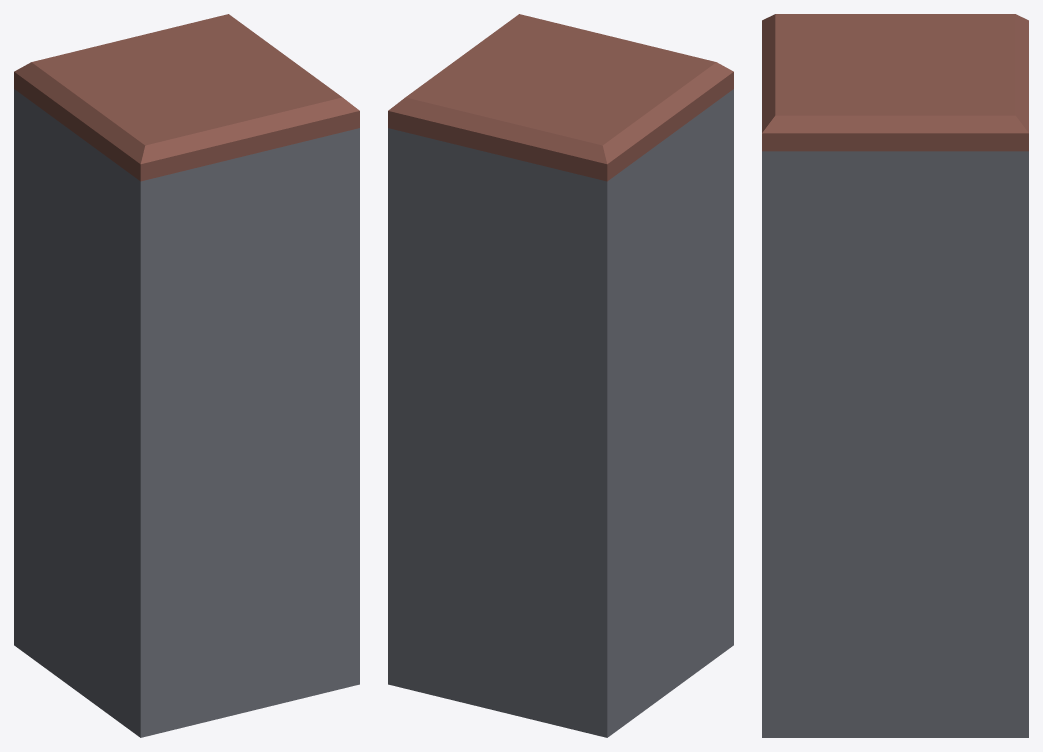
File: Path1.fbx
3 renders of one model, left to right at view 1: azimuth 30°, elevation 25°; view 2: azimuth 150°, elevation 25°; view 3: azimuth 270°, elevation 25°, orthographic. The views are drawn at different scales.
Visible parts, largest first — view 1: Cube; view 2: Cube; view 3: Cube.
Part boxes in pixels (box(x1,y1,x2,y2)): Cube: box(14, 14, 359, 737); Cube: box(388, 14, 733, 737); Cube: box(762, 14, 1028, 737).
Size of the model in its own units: 2 by 5.1 by 2.
